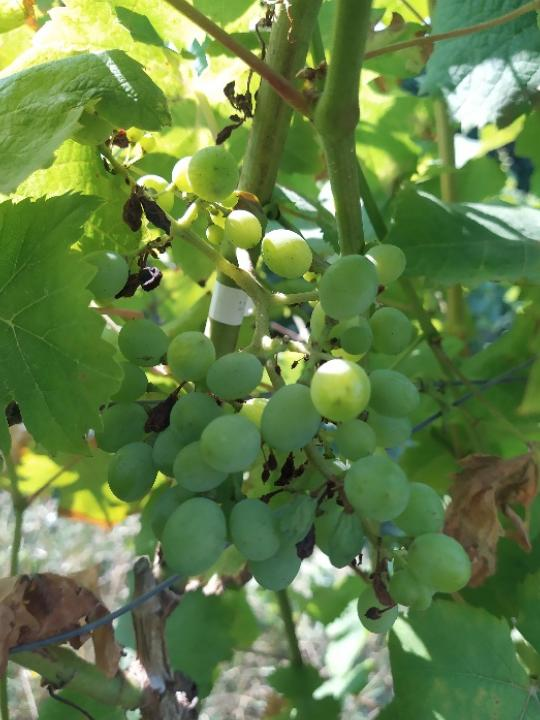grape: (77, 145, 472, 636)
